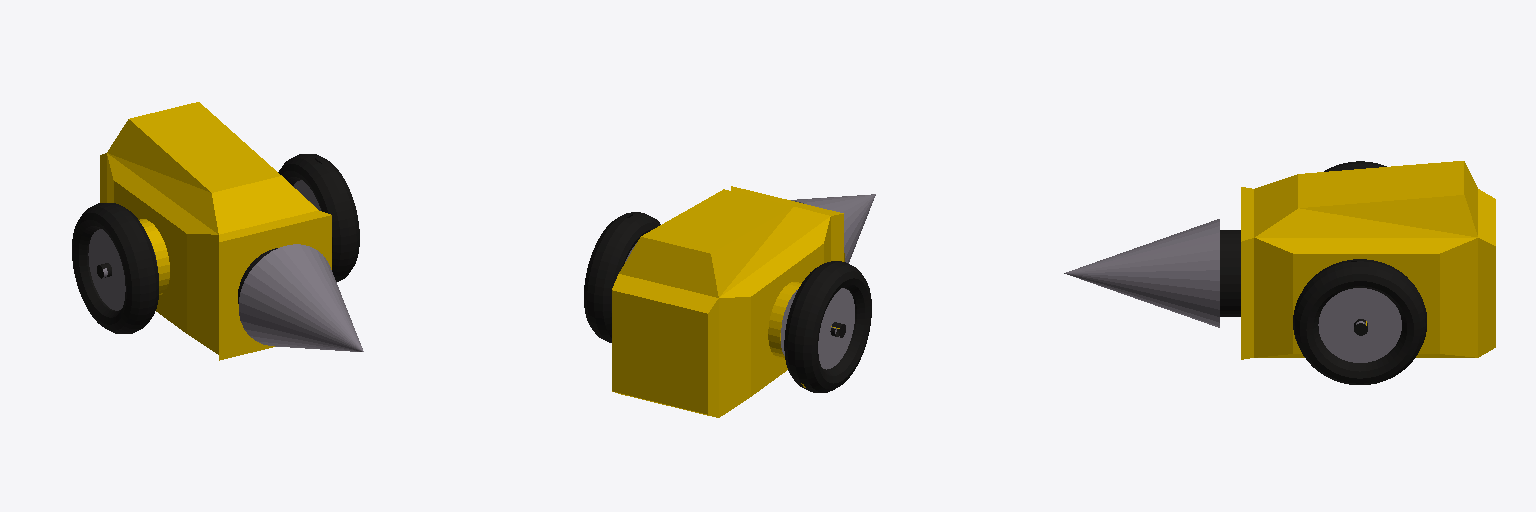
The picture shows the model from 3 angles: view 1: azimuth 30°, elevation 25°; view 2: azimuth 150°, elevation 25°; view 3: azimuth 270°, elevation 25°; orthographic projection.
Visible parts, largest first — view 1: 円柱.002; view 2: 円柱.002; view 3: 円柱.002.
Boxes of the visible parts, box(x1,y1,x2,y2) form: 円柱.002: box(72, 102, 363, 360); 円柱.002: box(584, 186, 875, 417); 円柱.002: box(1064, 161, 1495, 384).
Bounding box in the file's own units: 3.7 × 2.39 × 5.98.
Materials: 1 (1 with a texture image).